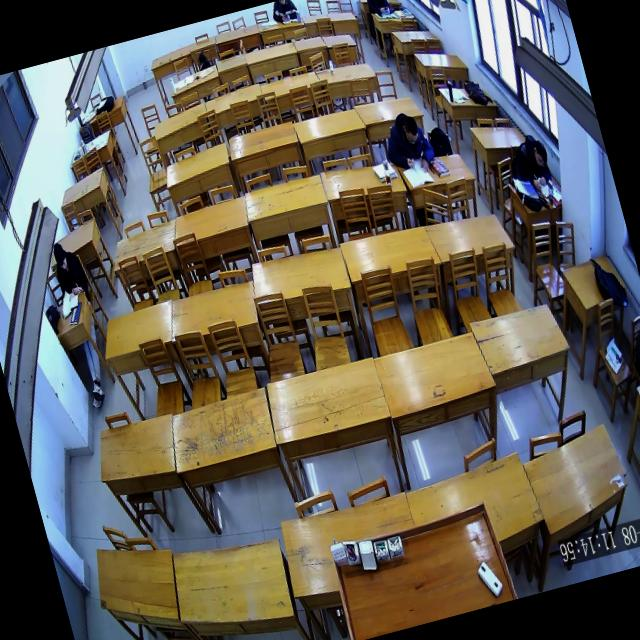down: (398, 112, 424, 150), (49, 240, 71, 274), (529, 137, 551, 171)
sit: (376, 104, 440, 183), (505, 128, 559, 201), (46, 236, 91, 301), (361, 0, 395, 21)
